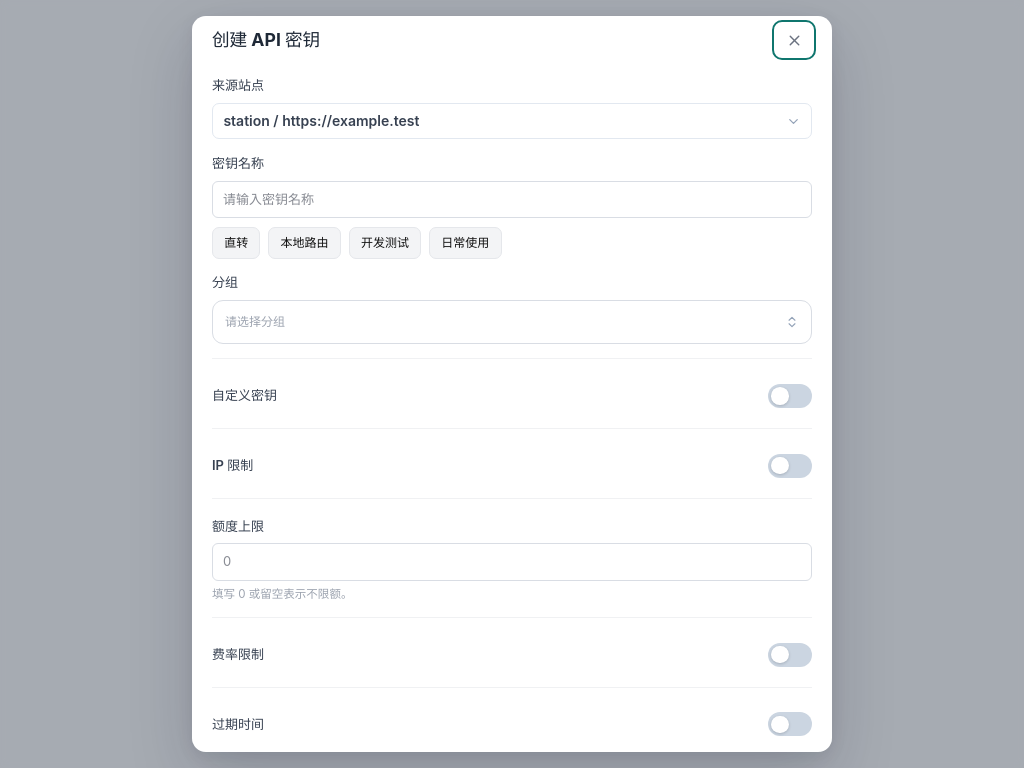
ApiKeyEditor › syncs the station before loading remote groups
Step 1. Click the button "请选择分组" → (255, 321), box x1=212 y1=300 x2=812 y2=344
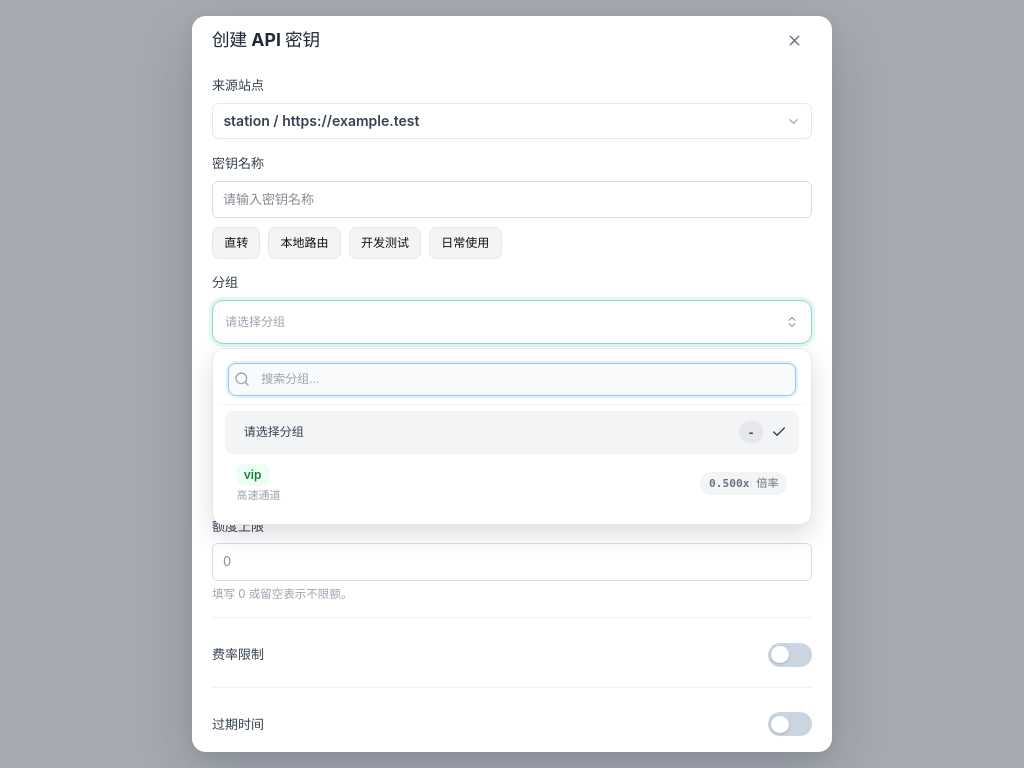
Result: the option "vip 高速通道 0.500x 倍率" is shown at x1=225 y1=454 x2=799 y2=513
